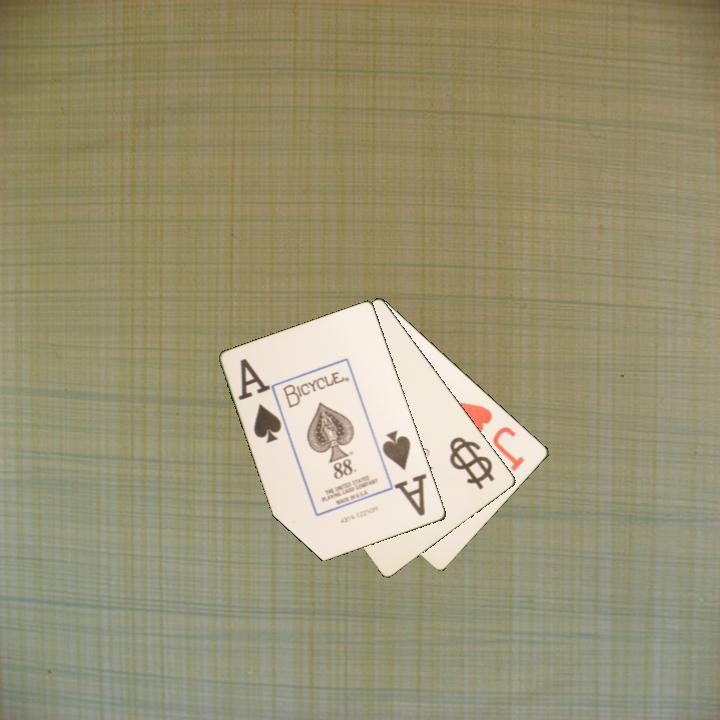As: (235, 355, 285, 447), (379, 427, 424, 511)
JK: (450, 437, 492, 482)
Jh: (455, 398, 528, 474)
